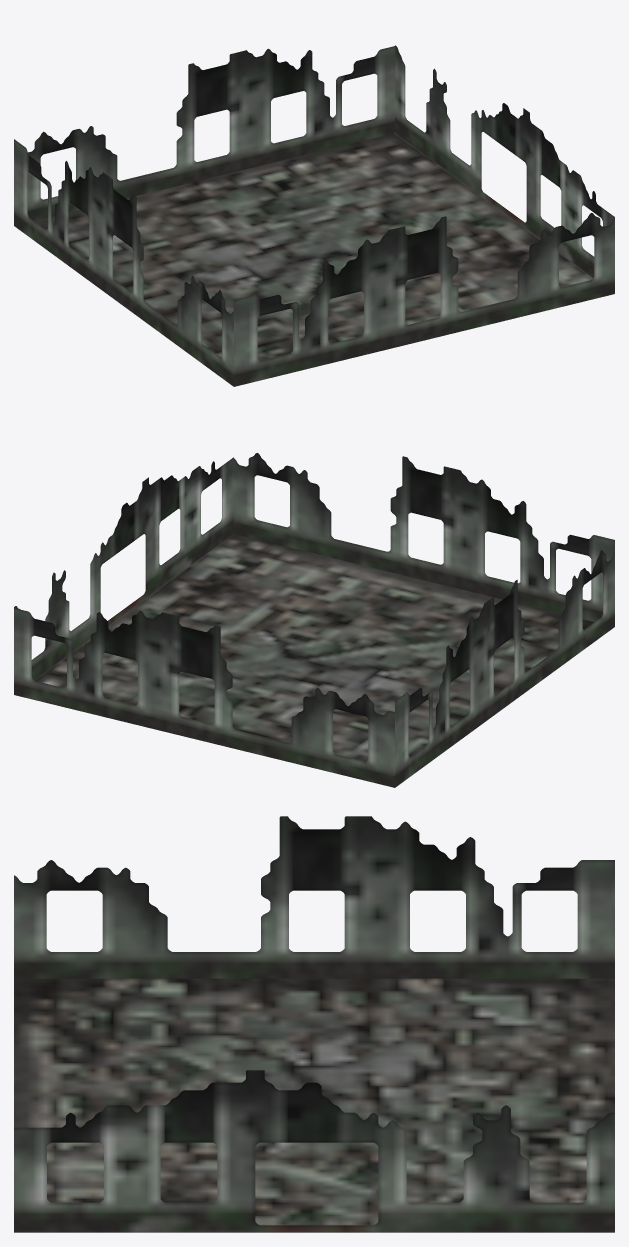
File: city8storyb_dam.glb
3 views of the same model, one above another, from view 1: azimuth 30°, elevation 25°; view 2: azimuth 150°, elevation 25°; view 3: azimuth 270°, elevation 25° (orthographic). The views are drawn at different scales.
Parts seen in each view (by area): view 1: City2StoryA; view 2: City2StoryA; view 3: City2StoryA.
Part boxes in pixels (x1=…): City2StoryA: x1=14, y1=45, x2=614, y2=386; City2StoryA: x1=14, y1=453, x2=614, y2=787; City2StoryA: x1=14, y1=816, x2=614, y2=1232.
Bounding box in the file's own units: 17.76 × 5.3 × 17.76.
1 material, 1 textured.
